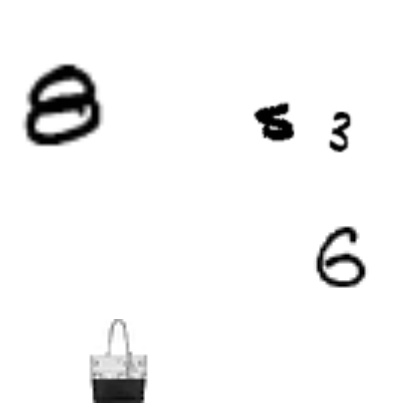3: (312, 102, 368, 158)
5: (246, 94, 302, 150)
6: (296, 215, 380, 299)
8: (3, 49, 115, 161)
Bag: (75, 319, 159, 403)
